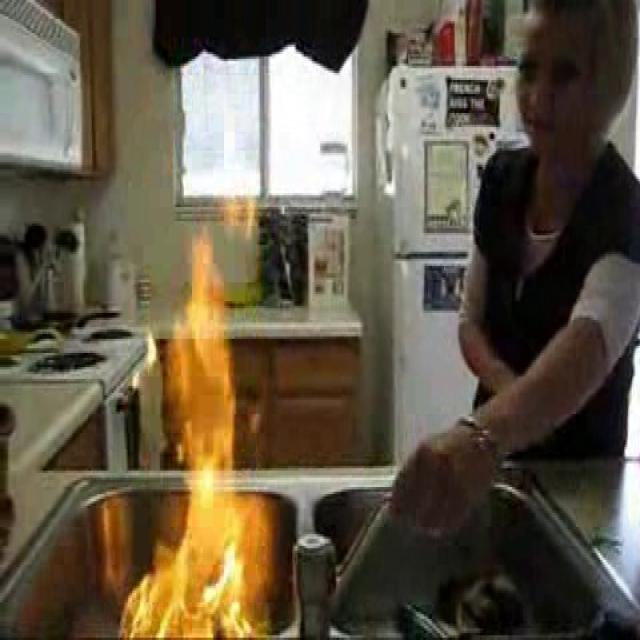fire: (146, 250, 260, 636)
